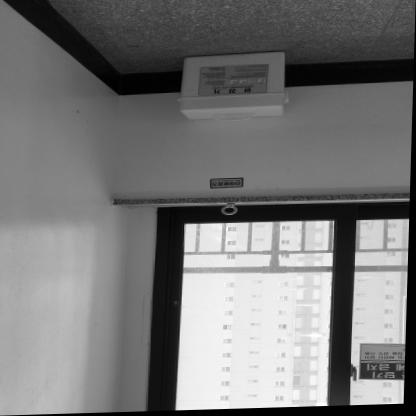DDL: (181, 53, 288, 124)
